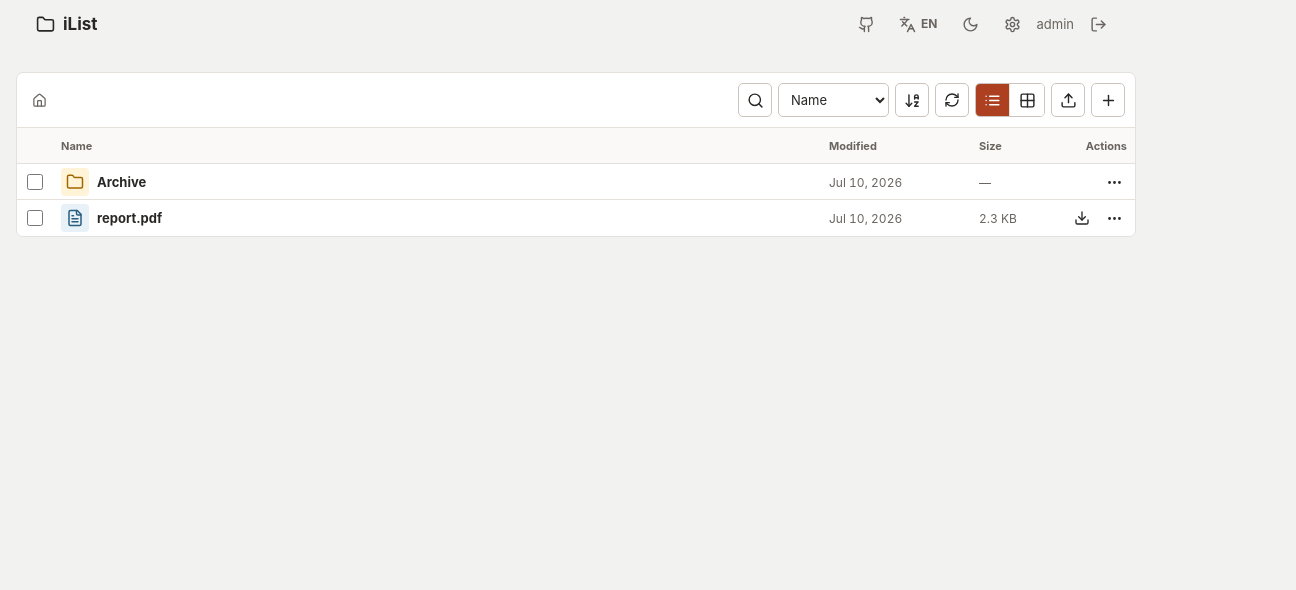
Test: explorer operations › announces clipboard failures
The width and height of the screenshot is (1296, 590).
Click the button named "Actions for report.pdf": click(1114, 218) 1099,203 -> 1129,233
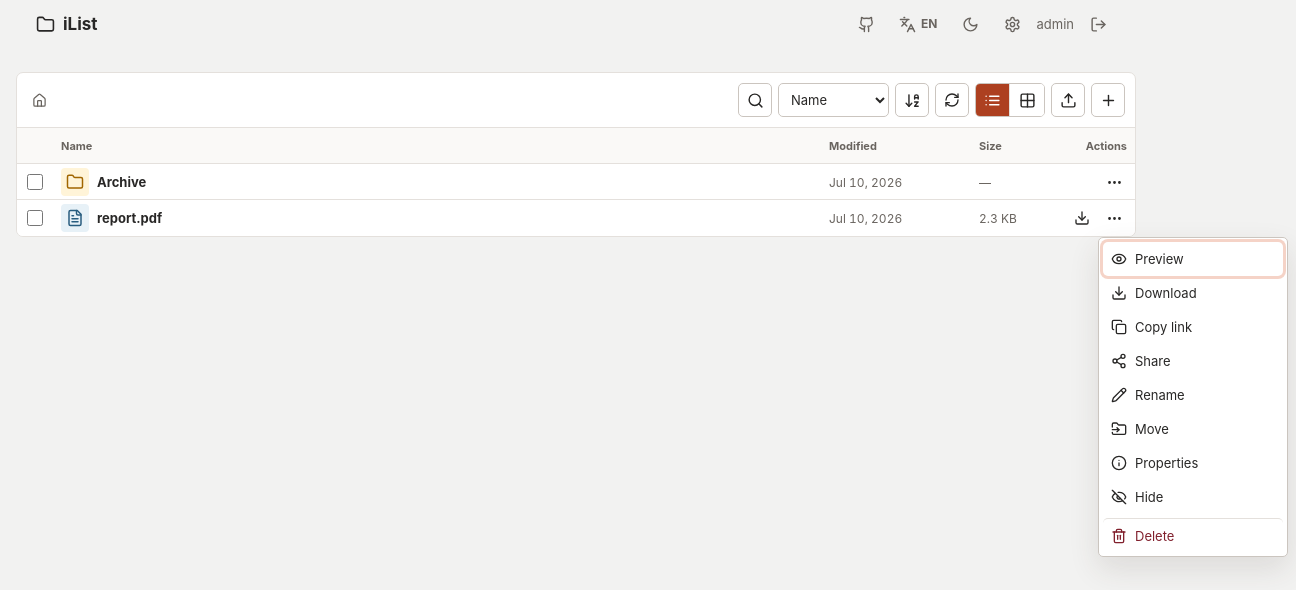
Click the menu item "Copy link": click(1193, 327) 1103,310 -> 1283,344
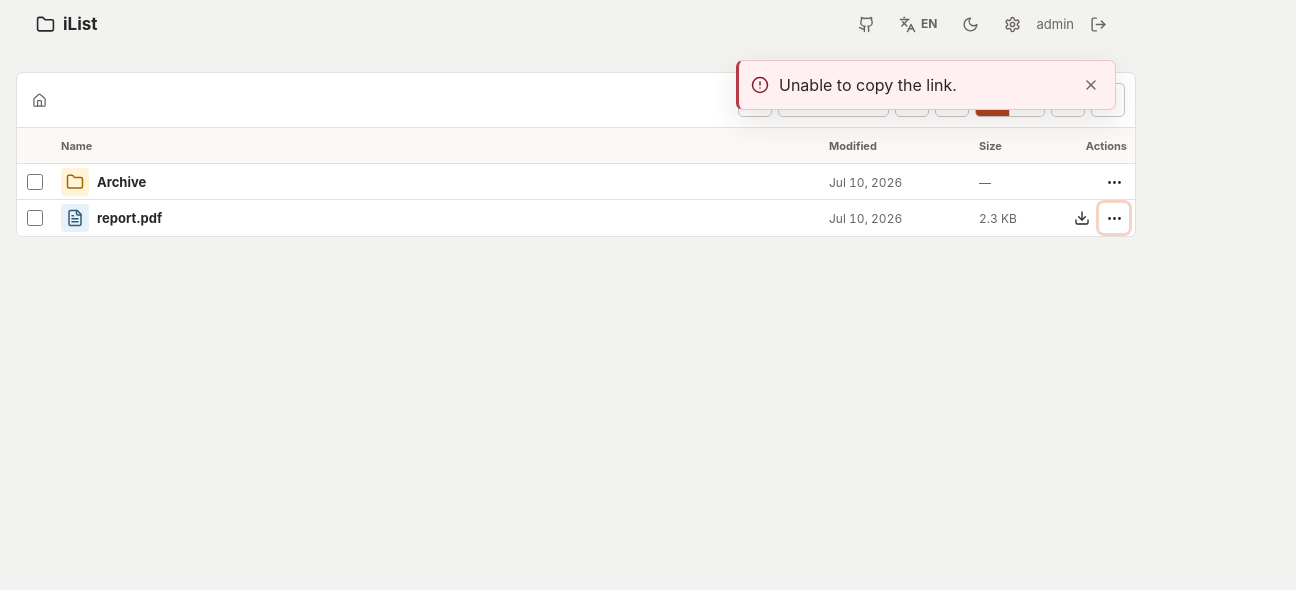
Now the text "Unable to copy the link." is shown, box 779,75 -> 957,95
